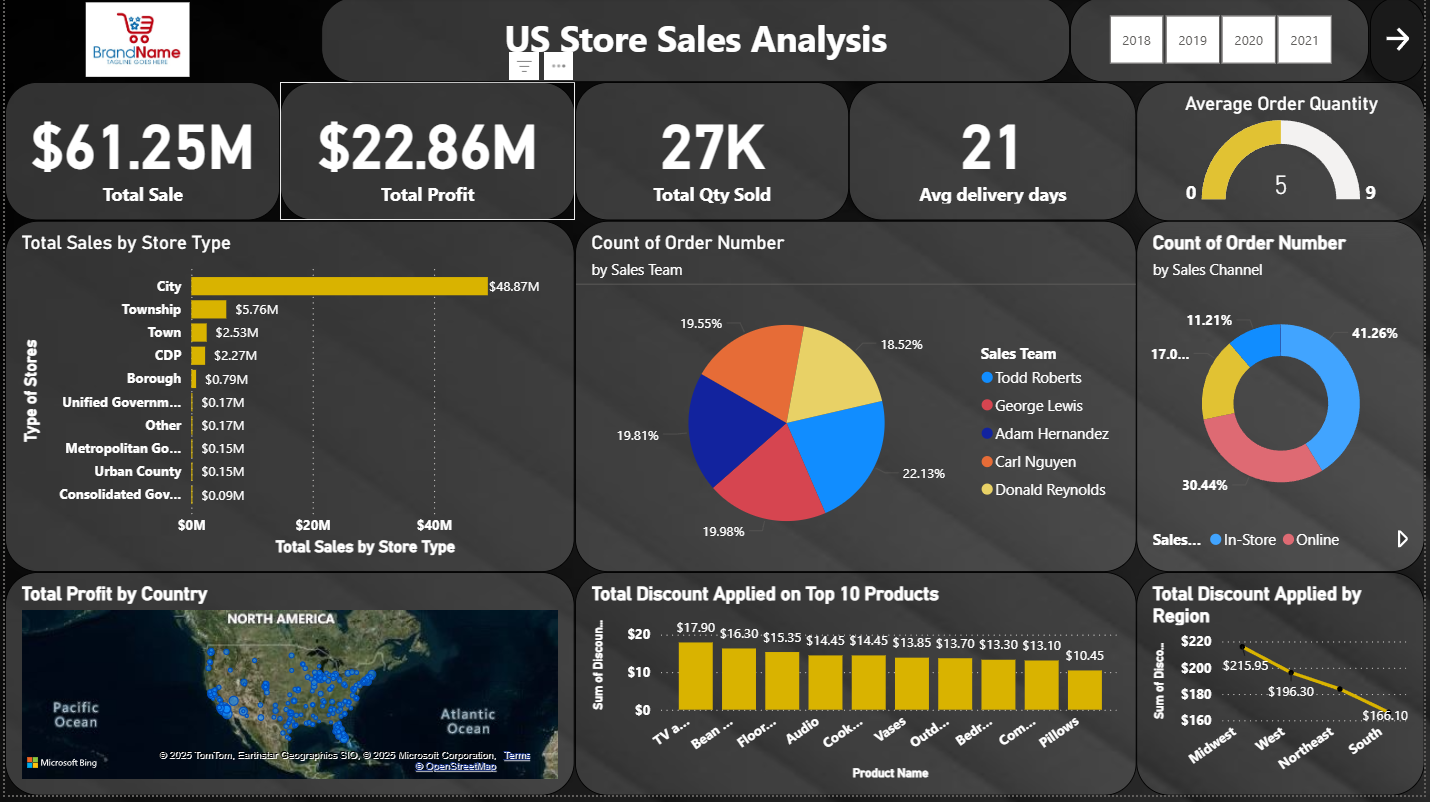

The page's visual inventory and layout, read from the dashboard file:
{"tool":"powerbi","page":{"name":"Sales Analysis","canvas":[1280,720],"ordinal":0},"visuals":[{"type":"card","fields":{"Values":["Sales Orders.Avg delivery days"]},"box":[760.8,76.6,259.2,125.1],"z":0},{"type":"card","fields":{"Values":["Sales Orders.Total Sale"]},"box":[0,76.6,248,125.1],"z":1000},{"type":"card","fields":{"Values":["Sales Orders.Total Profit"]},"box":[248,76.6,266,125.1],"z":2000},{"type":"card","fields":{"Values":["Sales Orders.Total Qty Sold"]},"box":[514,76.6,246.8,125.1],"z":3000},{"type":"slicer","fields":{"Values":["Sales Orders.Delivery Date.Variation.Date Hierarchy.Year"]},"box":[960.3,0,269.9,77.1],"z":5000},{"type":"barChart","title":"Total Sales by Store Type","fields":{"Category":["Store Locations.Type"],"Y":["Sales Orders.Sale Per Order"]},"box":[0,201.8,514,316.7],"z":6000},{"type":"map","title":"Total Profit by Country","fields":{"Size":["Sales Orders.Profit Per Order"],"Category":["Store Locations.County"]},"box":[0,518.5,514,201.8],"z":7000},{"type":"pieChart","fields":{"Y":["Sales Orders.Order Number"],"Category":["Sales Team.Sales Team"]},"box":[514,201.8,506.1,316.7],"z":8000},{"type":"image","box":[0,0,238.8,77.1],"z":9000},{"type":"textbox","box":[284.9,0,675.5,77.1],"z":10000},{"type":"lineChart","title":"Total Discount Applied by Region","fields":{"Y":["Sales Orders.Discount Applied"],"Category":["Sales Team.Region"]},"box":[1020,518.7,260,201.5],"z":11000},{"type":"columnChart","title":"Total Discount Applied on Top 10 Products","fields":{"Category":["Products.Product Name"],"Y":["Sales Orders.Discount Applied"]},"box":[514,518.5,506.1,201.8],"z":12000},{"type":"actionButton","box":[1230.3,0,49.8,77.1],"z":13000},{"type":"gauge","fields":{"Y":["Sales Orders.Average Order Quantity"]},"box":[1019.8,76.7,260.5,125.6],"z":14000},{"type":"donutChart","fields":{"Category":["Sales Orders.Sales Channel"],"Y":["Sales Orders.Order Number"]},"box":[1020,201.8,260.4,316.7],"z":15000}]}

Visuals, with their boxes in screenshot pixels (x1, y1, x2, y2), scaled from the page's 1280x720 canvas onto the 1430x802 screenshot:
card - Sales Orders.Avg delivery days: region(850, 85, 1140, 225)
card - Sales Orders.Total Sale: region(0, 85, 277, 225)
card - Sales Orders.Total Profit: region(277, 85, 574, 225)
card - Sales Orders.Total Qty Sold: region(574, 85, 850, 225)
slicer - Sales Orders.Delivery Date.Variation.Date Hierarchy.Year: region(1073, 0, 1374, 86)
"Total Sales by Store Type" barChart: region(0, 225, 574, 578)
"Total Profit by Country" map: region(0, 578, 574, 801)
pieChart - Sales Orders.Order Number x Sales Team.Sales Team: region(574, 225, 1140, 578)
image: region(0, 0, 267, 86)
textbox: region(318, 0, 1073, 86)
"Total Discount Applied by Region" lineChart: region(1140, 578, 1429, 801)
"Total Discount Applied on Top 10 Products" columnChart: region(574, 578, 1140, 801)
actionButton: region(1374, 0, 1429, 86)
gauge - Sales Orders.Average Order Quantity: region(1139, 85, 1429, 225)
donutChart - Sales Orders.Sales Channel x Sales Orders.Order Number: region(1140, 225, 1429, 578)
